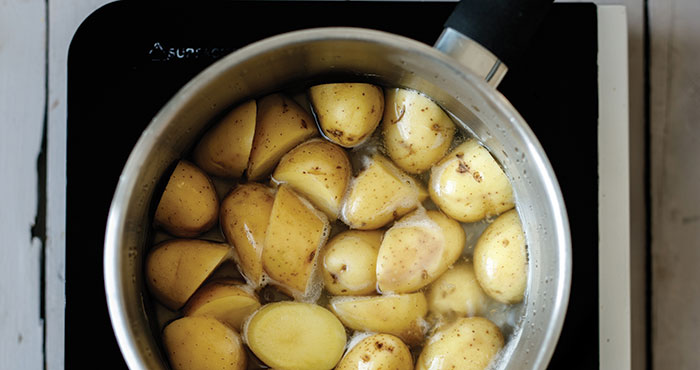boiled potatoes: (158, 113, 505, 370)
